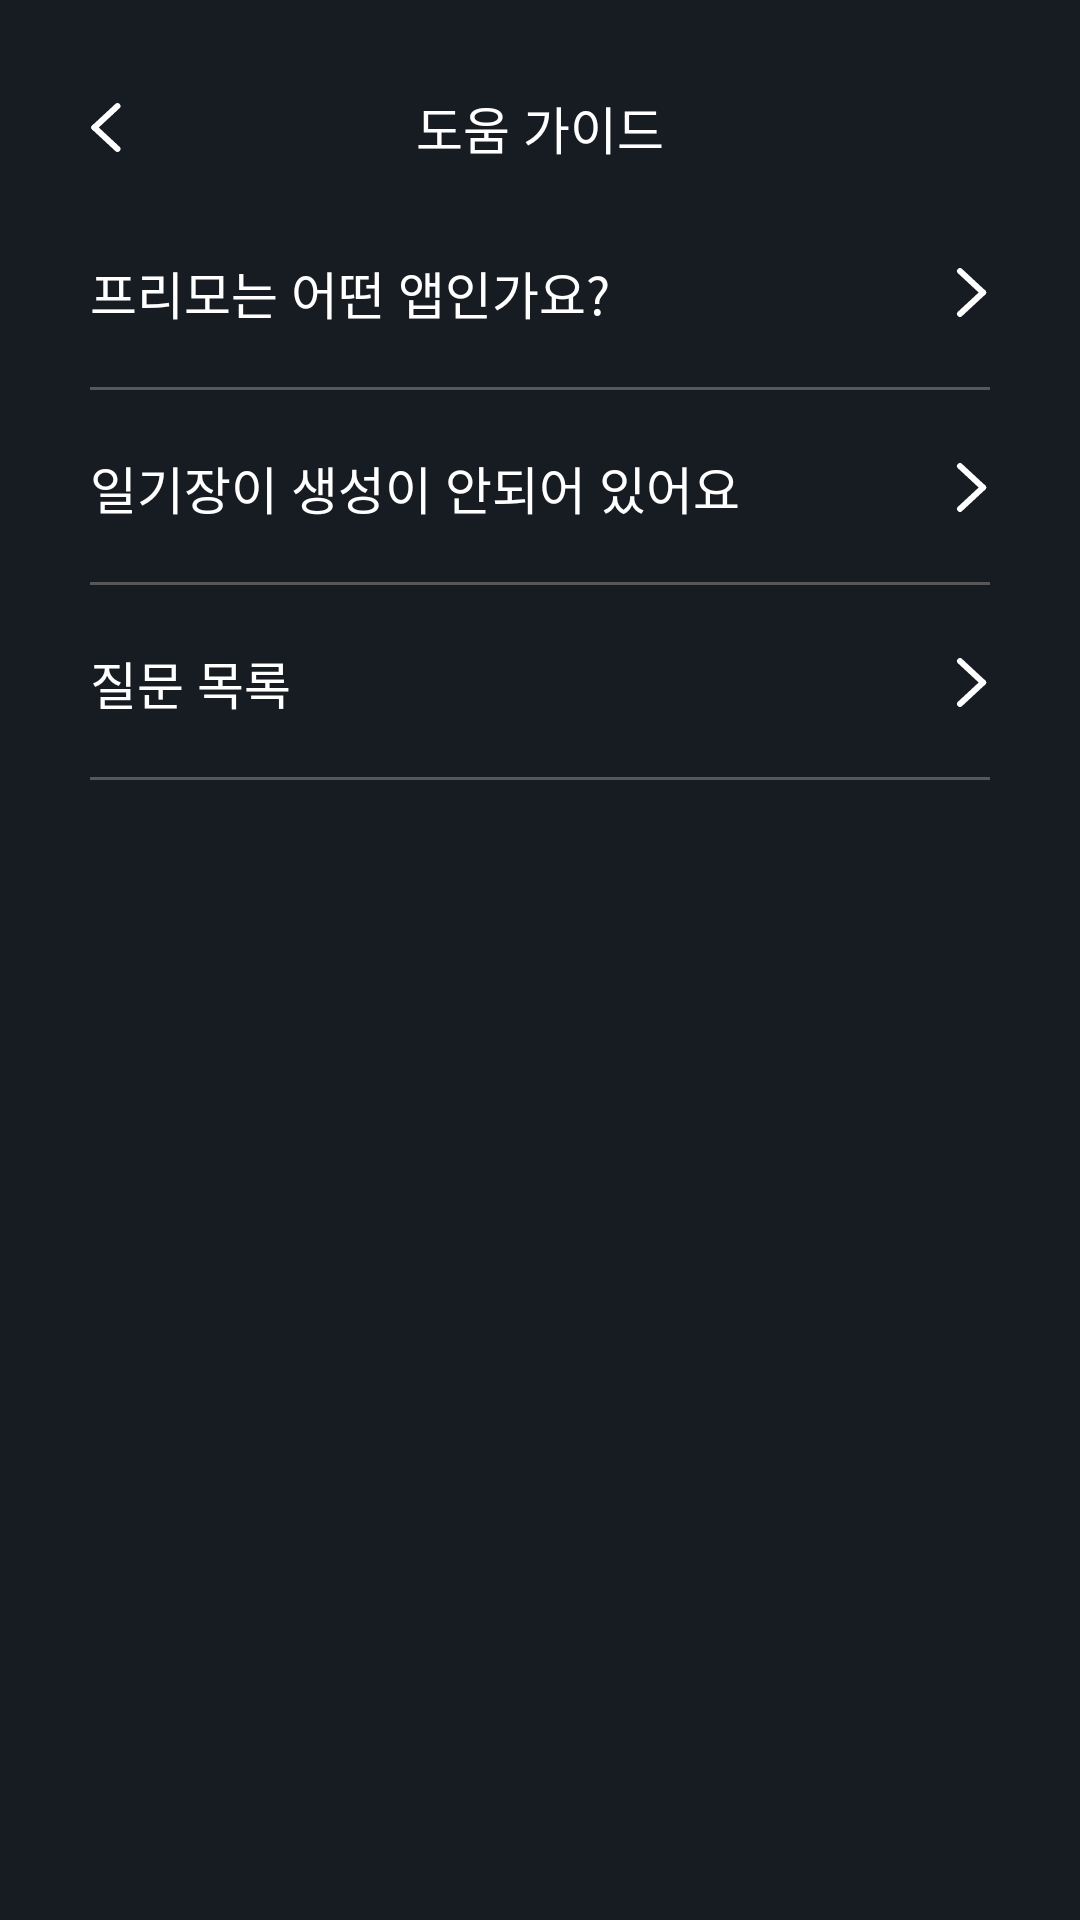

Icons on this 1080×1920 Android screen, each with the point to tap as point (x, y):
back: point (106, 127)
detail: point (972, 292), point (972, 487), point (972, 682)
